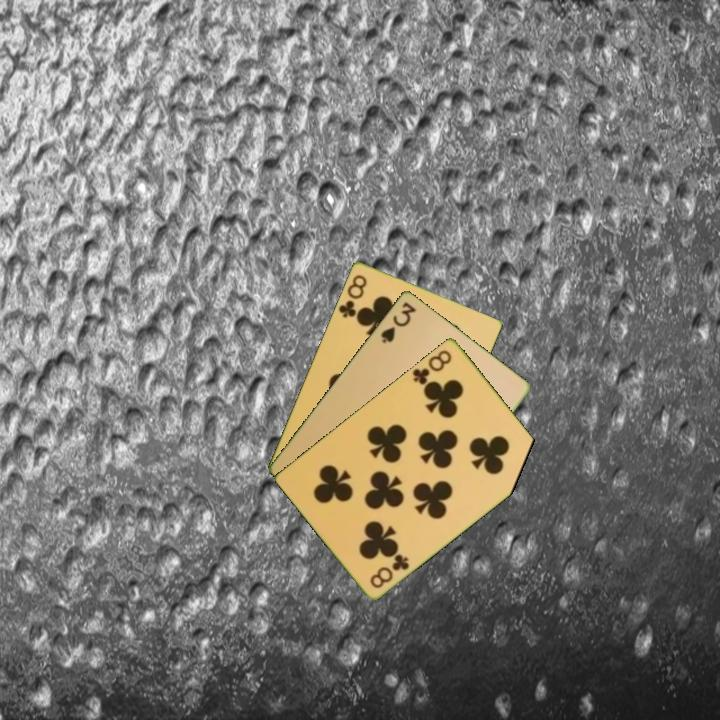3s: (377, 298, 419, 346)
8c: (409, 346, 455, 390), (366, 550, 412, 591), (335, 271, 370, 321)
